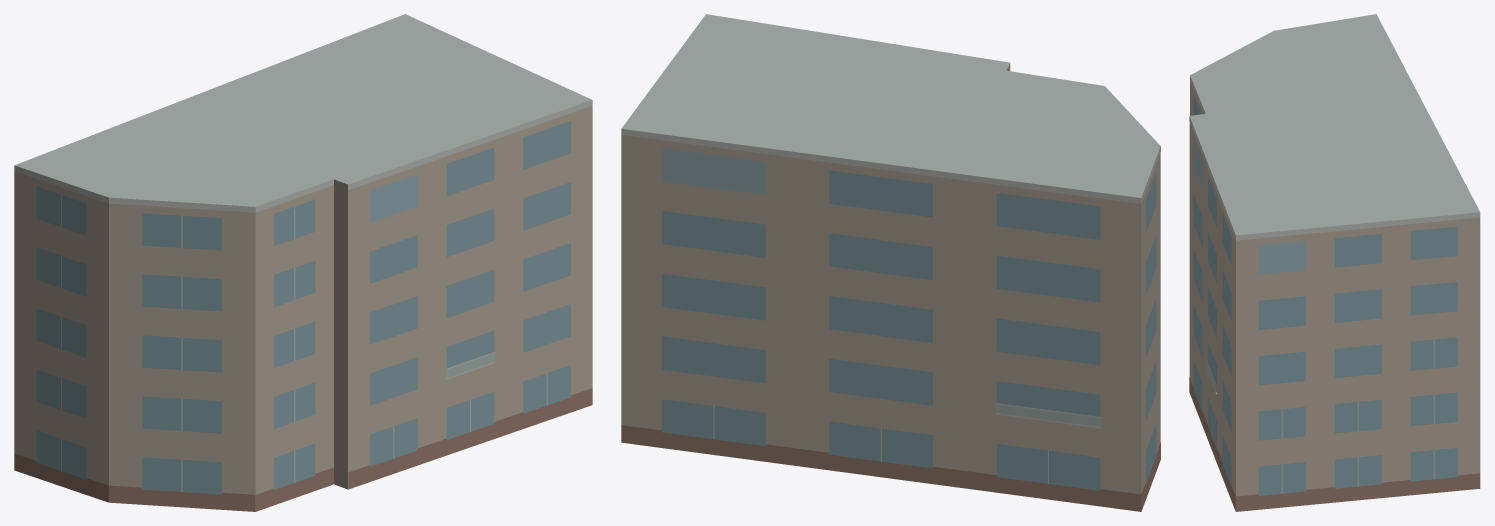
The model's file is survey-upis-32492365.glb.
3 views of the same model, side by side, from view 1: azimuth 30°, elevation 25°; view 2: azimuth 150°, elevation 25°; view 3: azimuth 270°, elevation 25° (orthographic). The views are drawn at different scales.
Visible parts, largest first — view 1: survey-upis-32492365.tmp; view 2: survey-upis-32492365.tmp; view 3: survey-upis-32492365.tmp.
Boxes of the visible parts, <box> form: survey-upis-32492365.tmp: <box>14,14,592,511</box>; survey-upis-32492365.tmp: <box>621,14,1160,511</box>; survey-upis-32492365.tmp: <box>1189,14,1480,511</box>.
Size of the model in its own units: 21.83 by 12.7 by 12.12.
